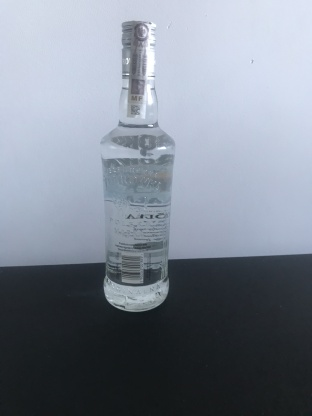nakretka: (119, 18, 159, 81)
